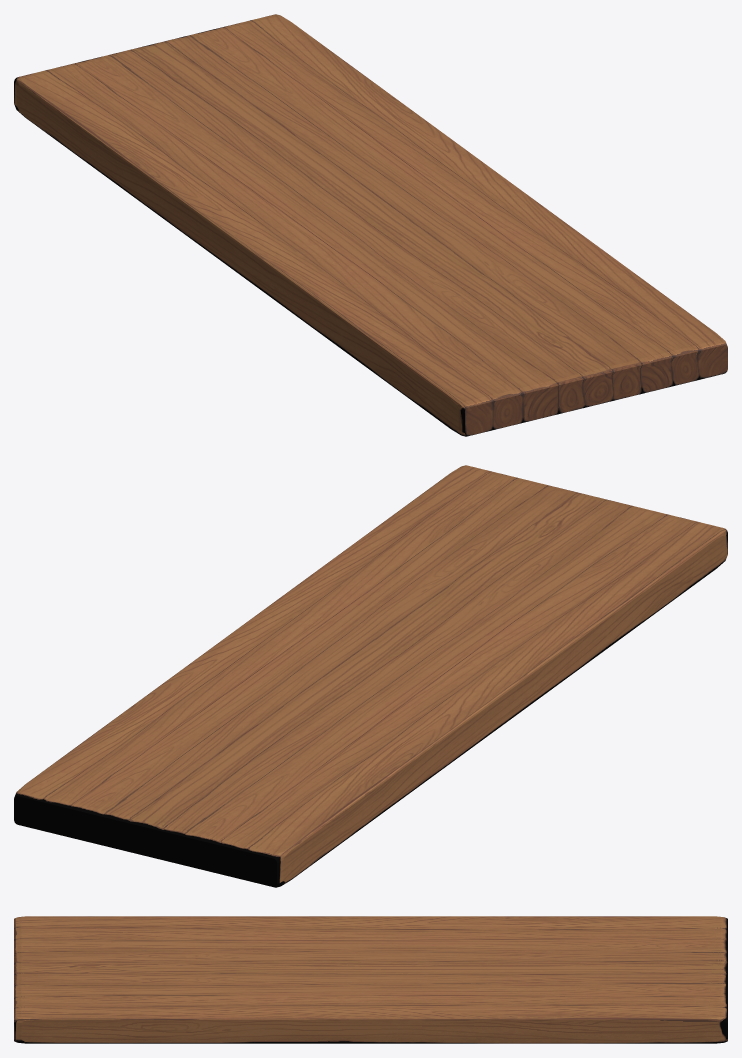
Rendered from TunaCatTable.glb.
3 renders of one model, top to bottom at view 1: azimuth 30°, elevation 25°; view 2: azimuth 150°, elevation 25°; view 3: azimuth 270°, elevation 25°, orthographic. The views are drawn at different scales.
Parts seen in each view (by area): view 1: Cube; view 2: Cube; view 3: Cube.
Boxes of the visible parts, left/top/right/bottom form: Cube: left=14, top=14, right=727, bottom=436; Cube: left=14, top=465, right=727, bottom=887; Cube: left=14, top=916, right=727, bottom=1043.
Size of the model in its own units: 10.12 by 1.19 by 29.7.
Materials: 1 (1 with a texture image).
